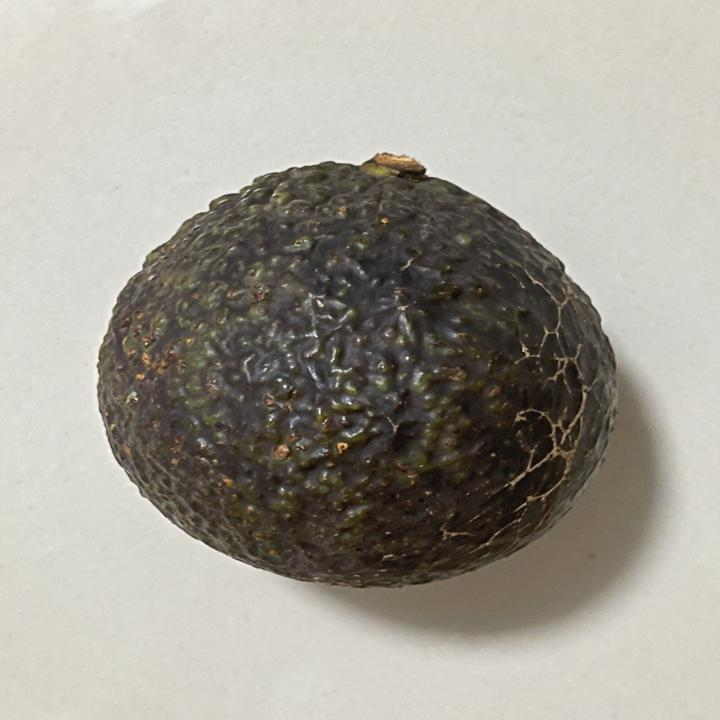Level1: (81, 141, 639, 600)
